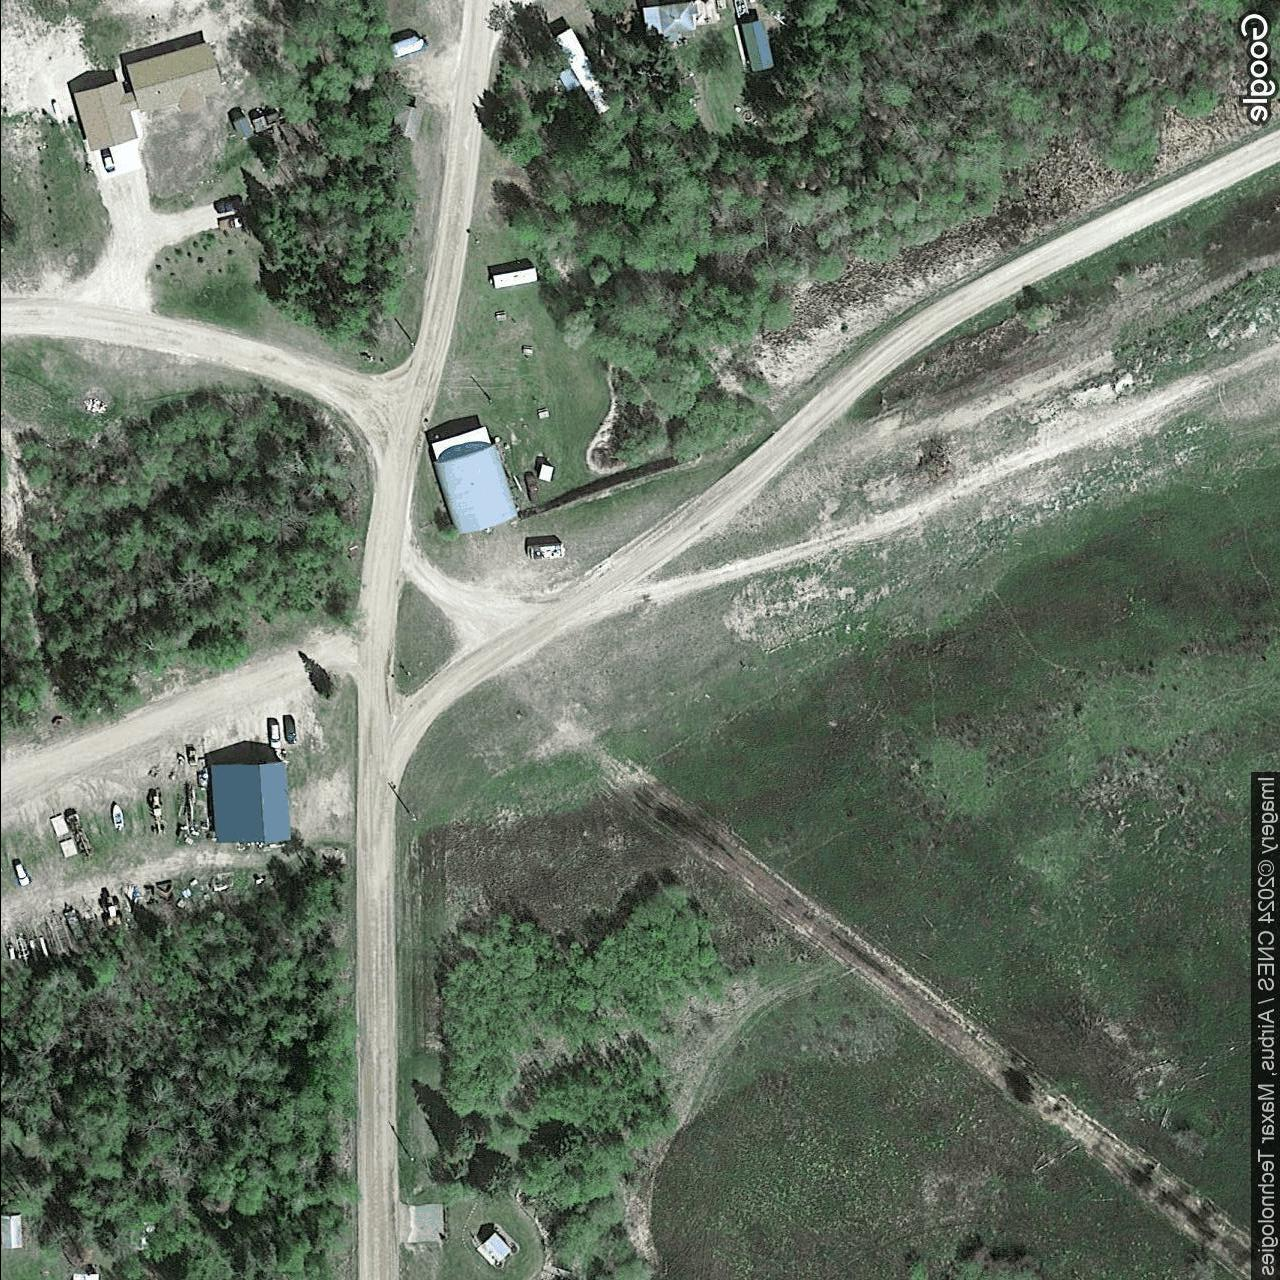Garage: (430, 440, 517, 533), (210, 761, 290, 843), (740, 19, 774, 73), (390, 102, 425, 141)
House: (74, 40, 222, 151), (641, 1, 696, 42), (474, 1232, 512, 1268), (0, 1214, 22, 1248), (72, 1273, 100, 1280)
Propane: (730, 22, 745, 61), (48, 97, 62, 118)
Trailer: (553, 27, 613, 115), (488, 266, 538, 290)
